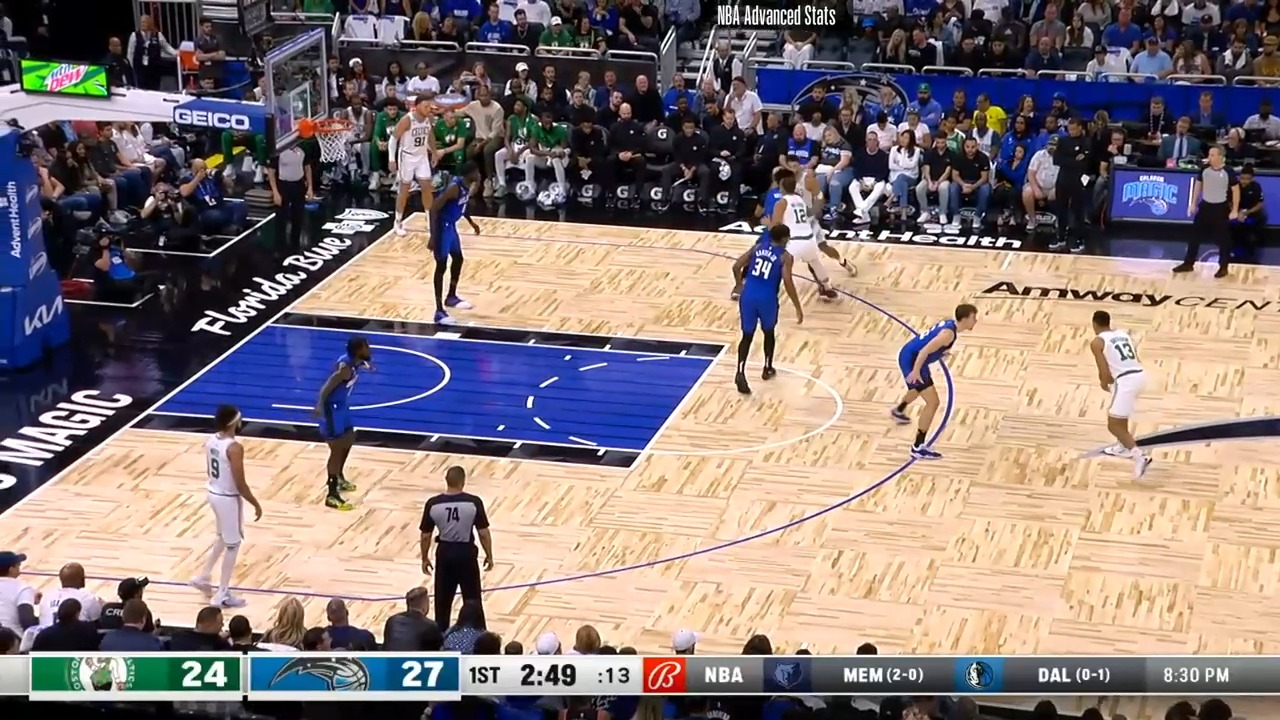net: (298, 111, 363, 163)
player: (190, 403, 276, 620), (898, 303, 988, 467), (724, 221, 803, 395), (317, 332, 392, 511), (1078, 308, 1156, 480), (424, 160, 488, 322), (383, 93, 450, 246), (781, 154, 859, 276), (773, 173, 843, 307)
referee: (413, 465, 496, 632), (1169, 143, 1236, 285), (269, 130, 320, 266)
